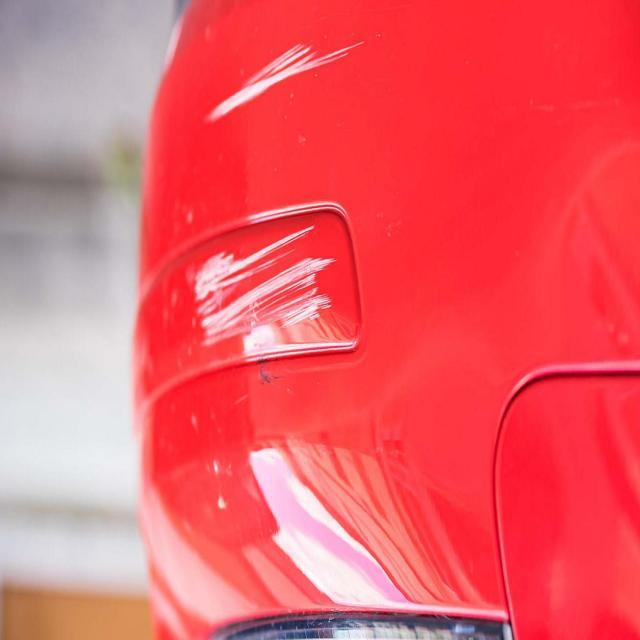scratch: (188, 216, 322, 372), (200, 24, 332, 138)
